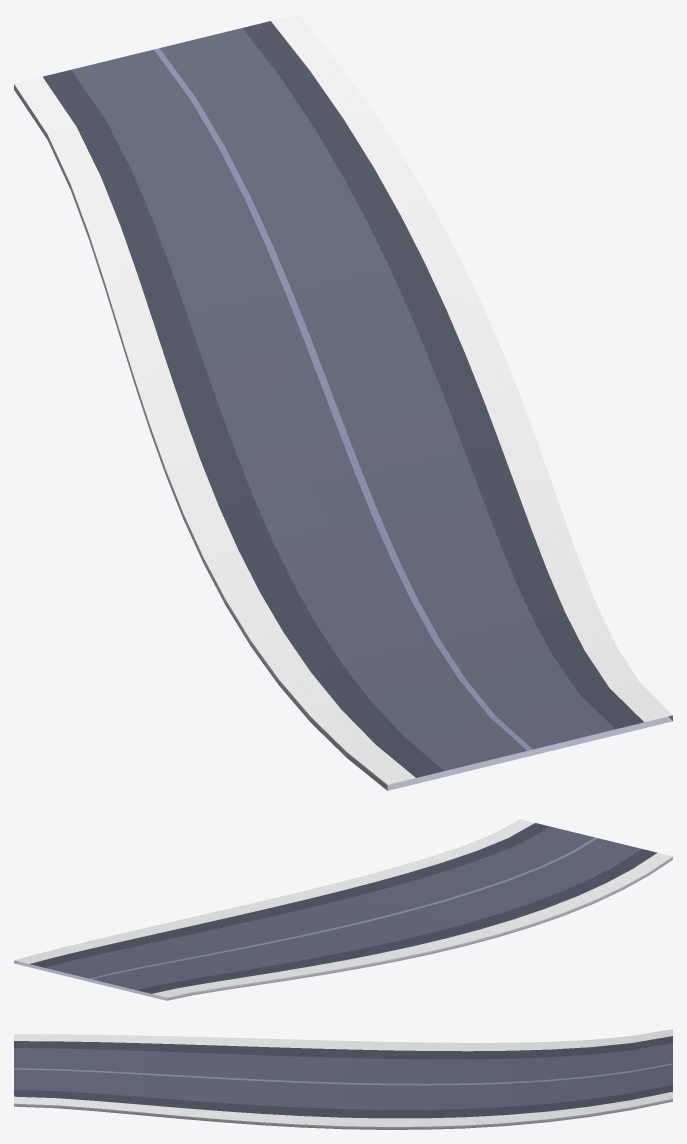
Rendered from road-Chicane-Flat-BiSlopeUp-Up2-Right1-Size4.glb.
The picture shows the model from 3 angles, top to bottom: view 1: azimuth 30°, elevation 25°; view 2: azimuth 150°, elevation 25°; view 3: azimuth 270°, elevation 25°; orthographic projection. The views are drawn at different scales.
Parts seen in each view (by area): view 1: road-Chicane-Flat-BiSlopeUp-Up2-Right1-Size4; view 2: road-Chicane-Flat-BiSlopeUp-Up2-Right1-Size4; view 3: road-Chicane-Flat-BiSlopeUp-Up2-Right1-Size4.
Part boxes in pixels (x1,y1,x2,y2): road-Chicane-Flat-BiSlopeUp-Up2-Right1-Size4: [14, 14, 672, 790]; road-Chicane-Flat-BiSlopeUp-Up2-Right1-Size4: [14, 819, 672, 1000]; road-Chicane-Flat-BiSlopeUp-Up2-Right1-Size4: [14, 1029, 672, 1129].
Bounding box in the file's own units: 2 × 0.52 × 4.
1 material, 1 textured.
